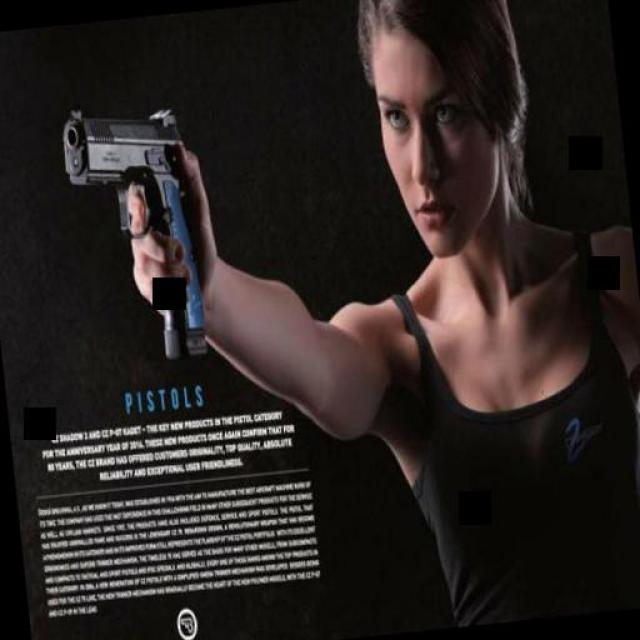gun: (42, 65, 228, 390)
